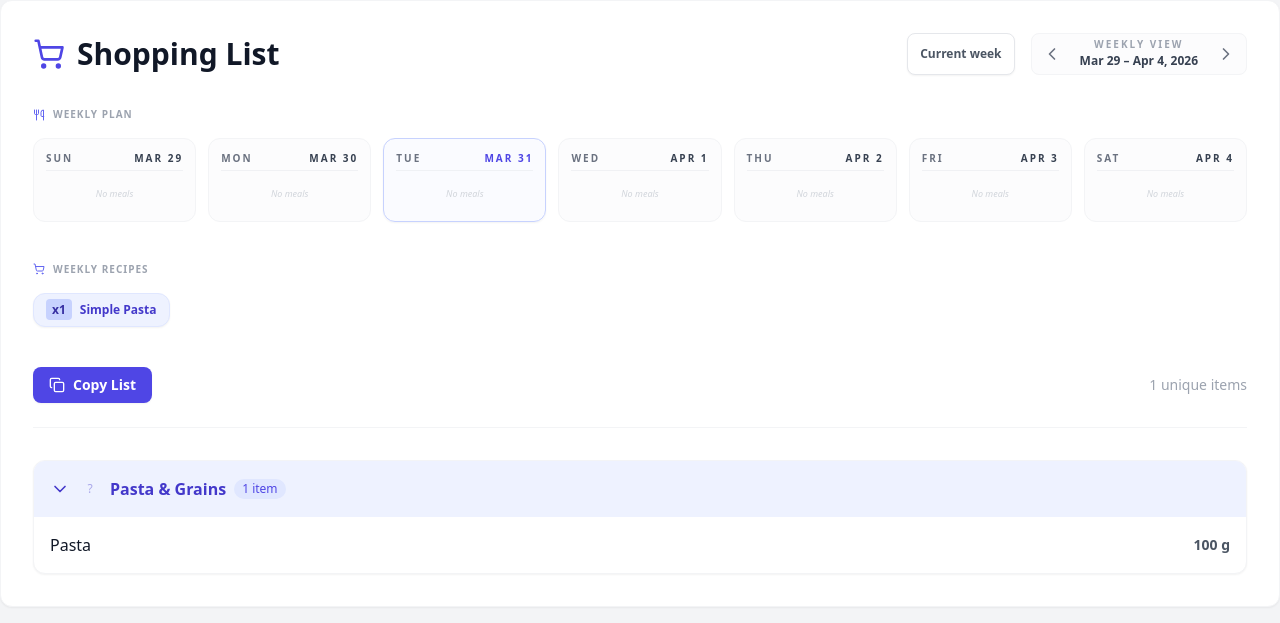
Test case: ShoppingList › store section grouping › collapses and expands sections when clicked
This screenshot has width=1280, height=623.
Expected: the text "pasta" is shown, [50,532,91,556]
// Click the section header to collapse
Click the text "Pasta & Grains": x=168, y=488 [110,476,226,500]
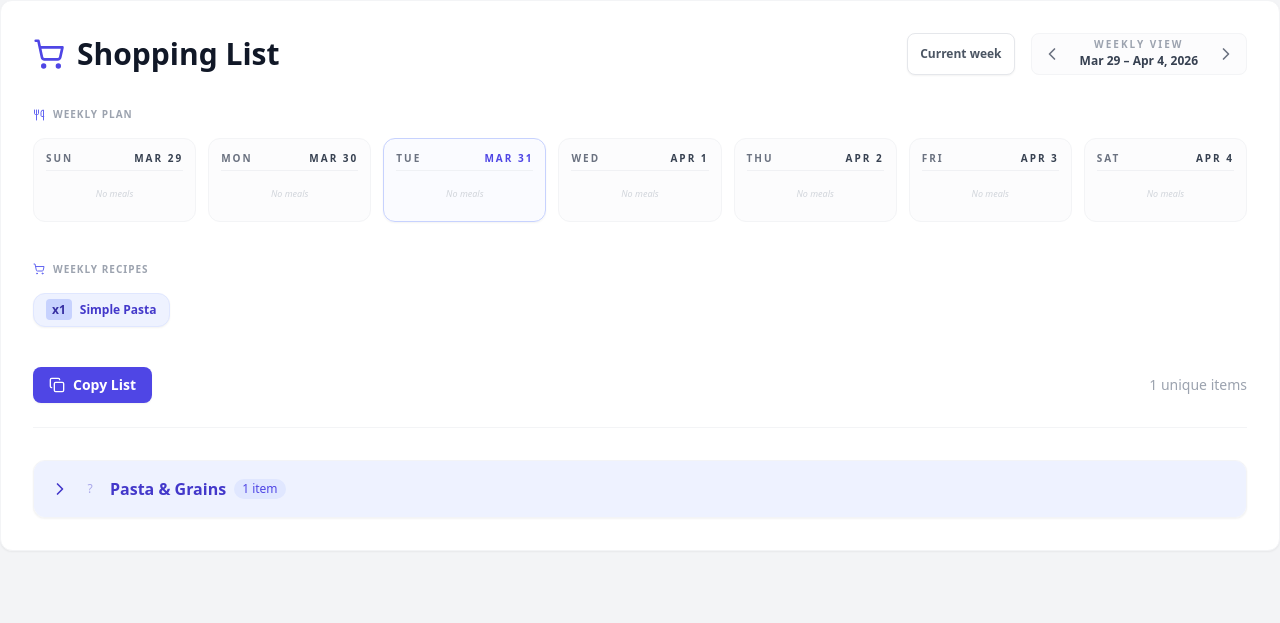
// Click again to expand
Click the text "Pasta & Grains": x=168, y=488 [110,476,226,500]
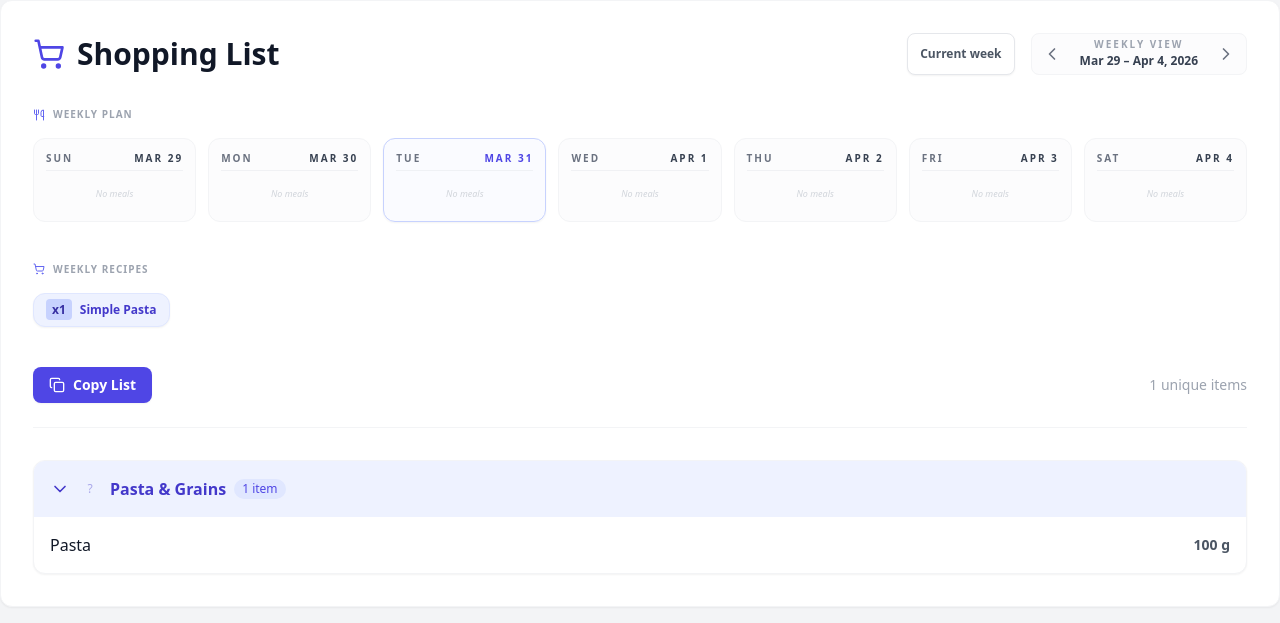
Result: the text "pasta" is shown at [50,532,91,556]
